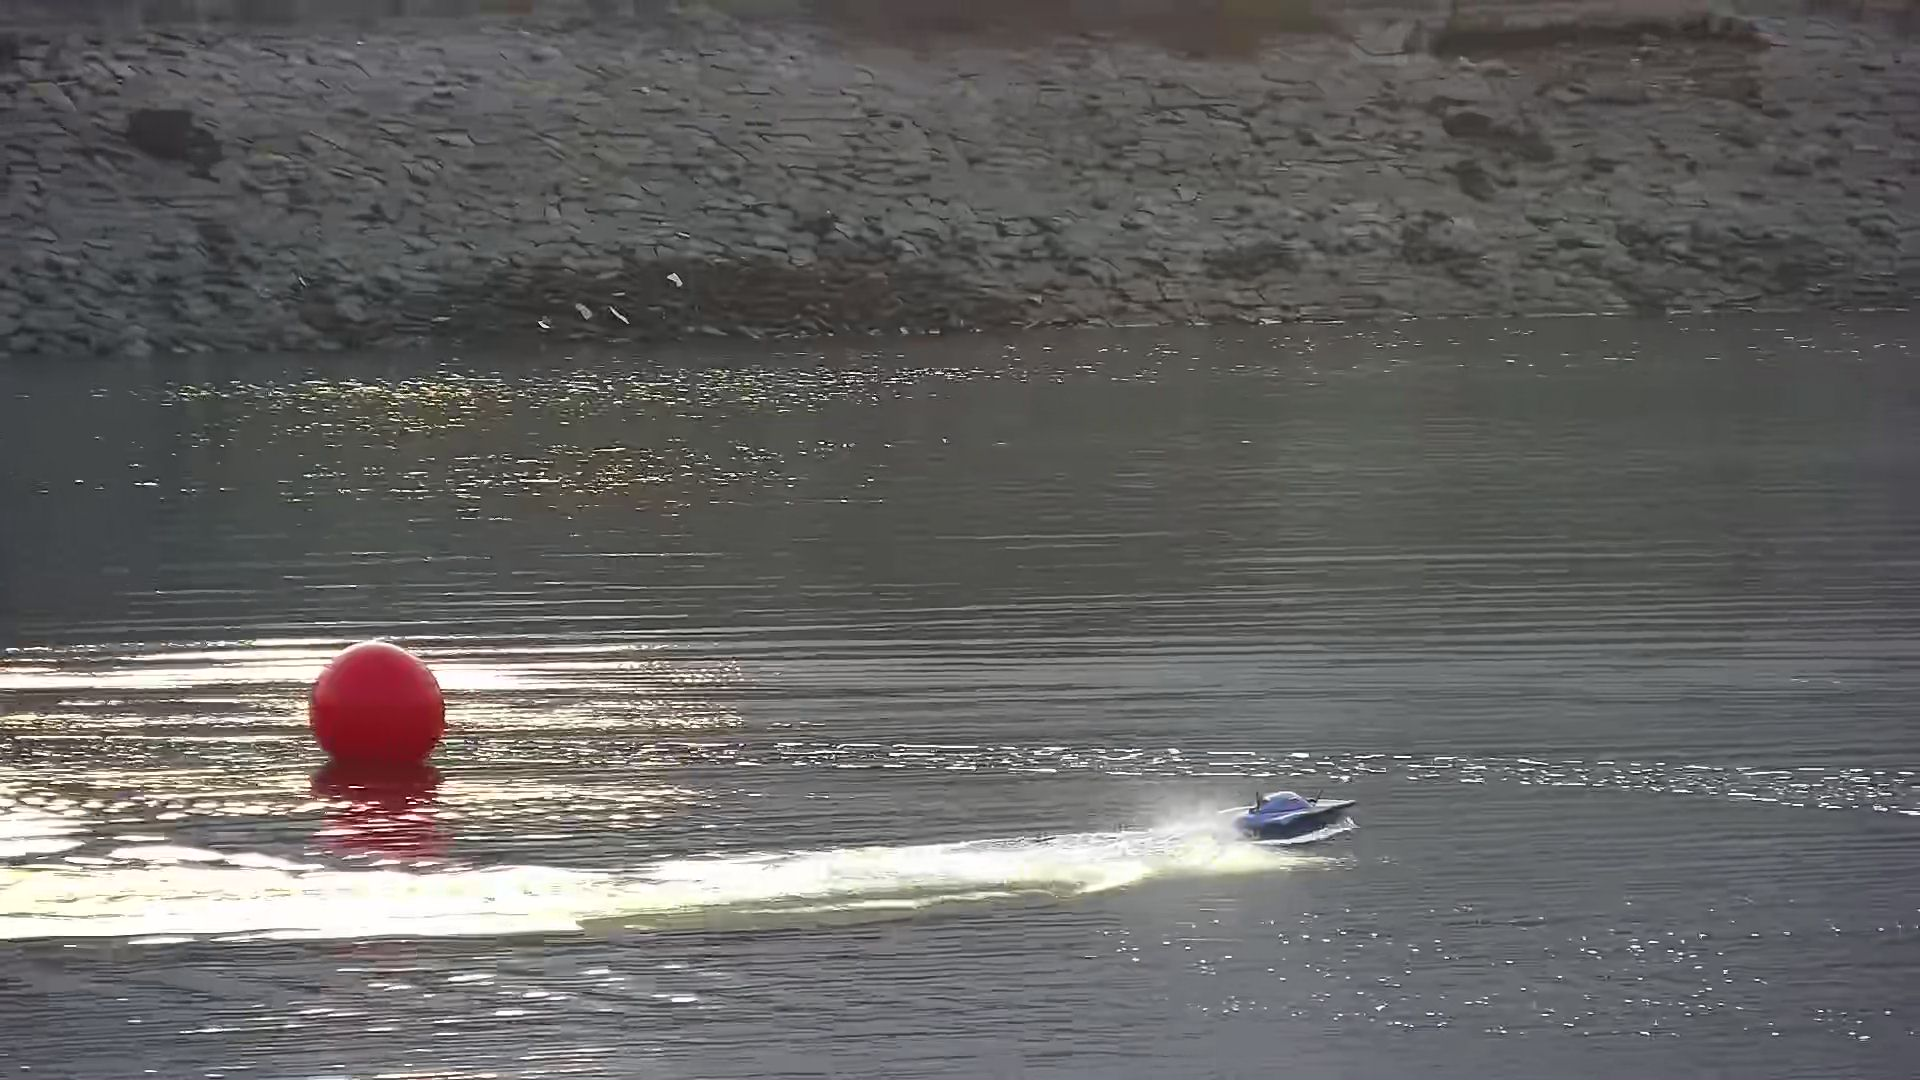ball: (307, 642, 444, 773)
boat: (1207, 785, 1354, 849)
